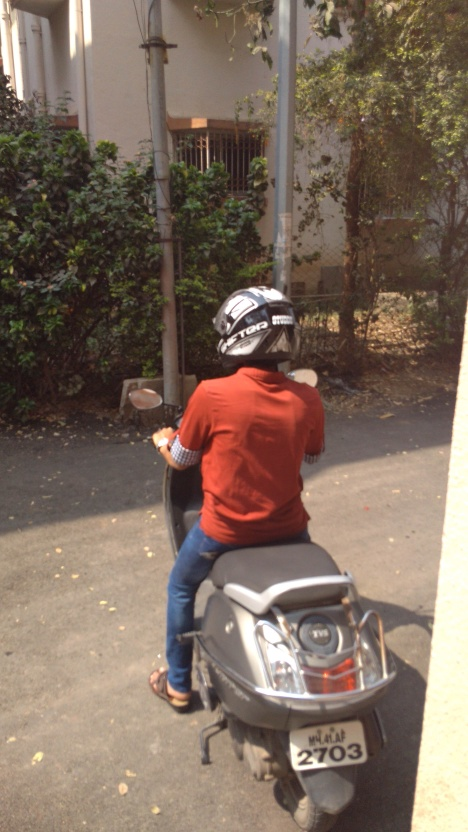helmet: (201, 283, 303, 372)
